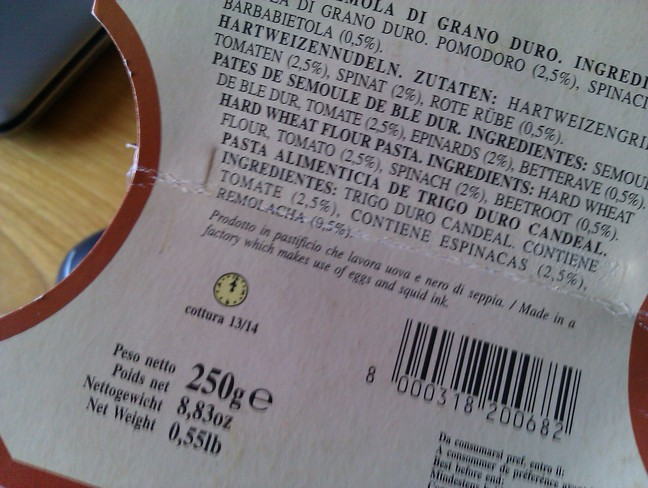barcode: (360, 309, 594, 447)
